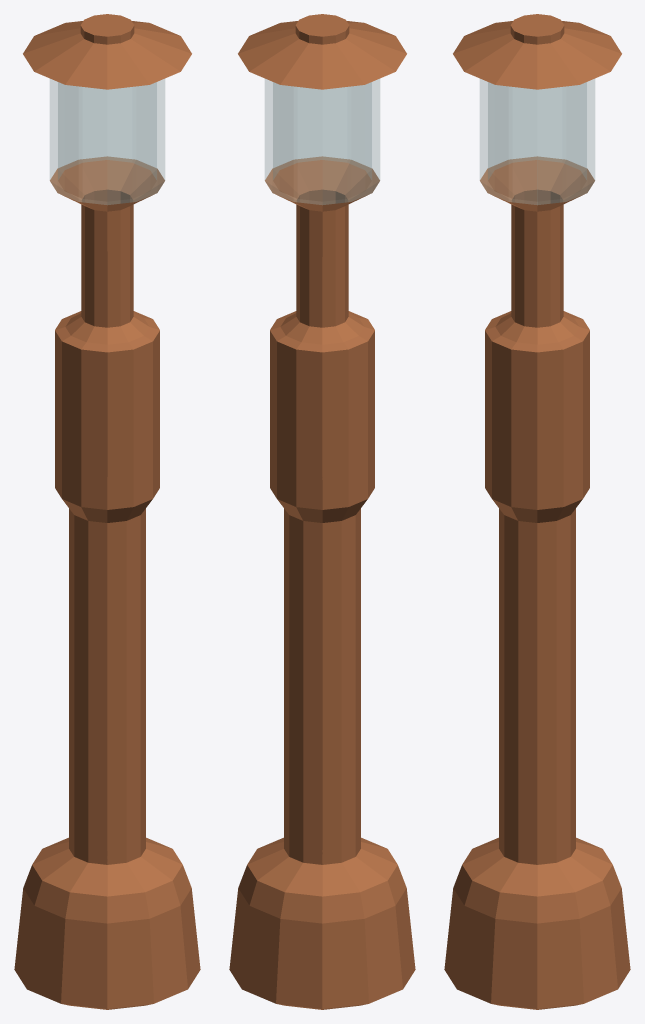
Rendered from lampPost.fbx.
The picture shows the model from 3 angles, left to right: view 1: azimuth 30°, elevation 25°; view 2: azimuth 150°, elevation 25°; view 3: azimuth 270°, elevation 25°; orthographic projection.
Visible parts, largest first — view 1: Circle, Circle.001; view 2: Circle, Circle.001; view 3: Circle, Circle.001.
Part boxes in pixels (left/top/right/bottom): Circle: left=14, top=14, right=200, bottom=1009; Circle.001: left=50, top=79, right=164, bottom=204; Circle: left=229, top=14, right=415, bottom=1009; Circle.001: left=265, top=79, right=379, bottom=204; Circle: left=444, top=14, right=630, bottom=1009; Circle.001: left=480, top=79, right=594, bottom=204.
Size of the model in its own units: 2.47 by 13.95 by 2.47.
